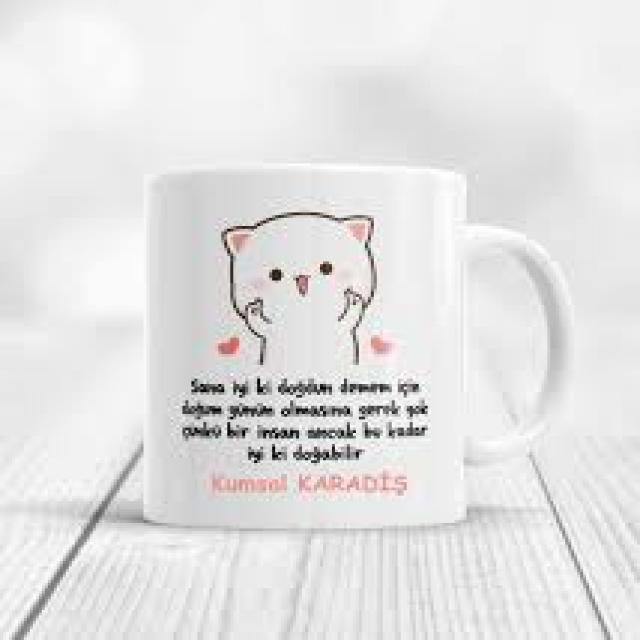taza: (143, 164, 577, 534)
